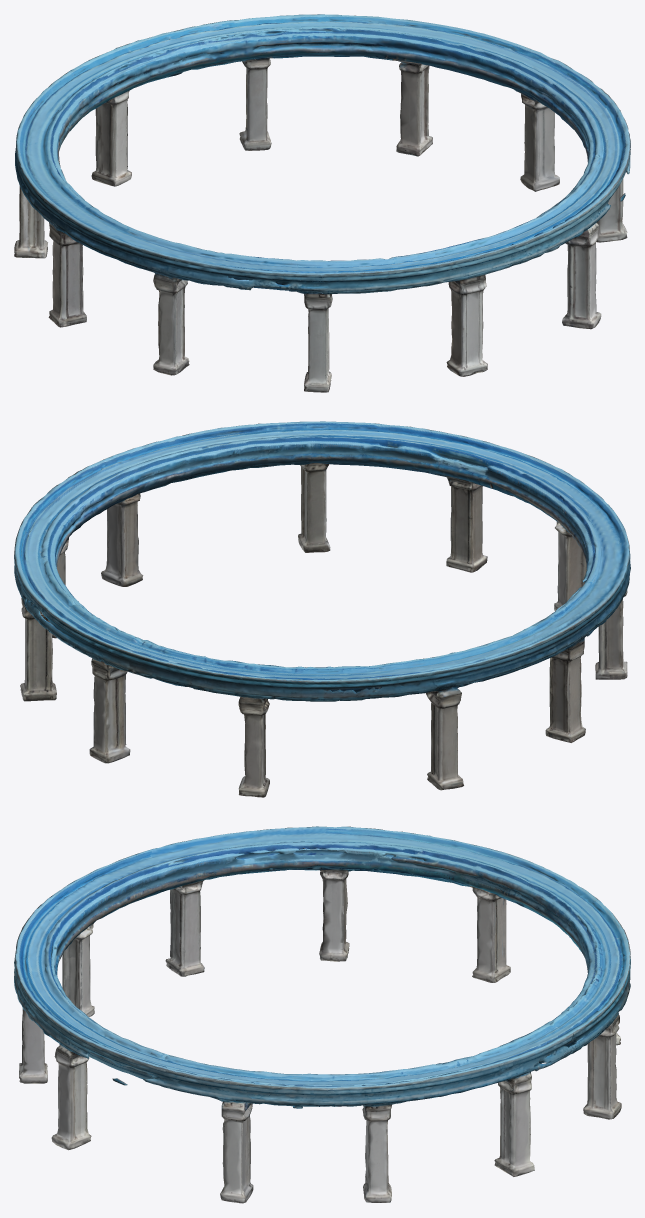
The model's file is 롯데_모노레일.glb.
3 renders of one model, top to bottom at view 1: azimuth 30°, elevation 25°; view 2: azimuth 150°, elevation 25°; view 3: azimuth 270°, elevation 25°, orthographic.
Parts seen in each view (by area): view 1: texture_mapping; view 2: texture_mapping; view 3: texture_mapping.
Part boxes in pixels (bbox=[...]): texture_mapping: bbox=[14, 14, 630, 392]; texture_mapping: bbox=[14, 421, 630, 797]; texture_mapping: bbox=[14, 826, 630, 1203].
Bounding box in the file's own units: 0.991 × 0.2149 × 0.9902.
1 material, 1 textured.
